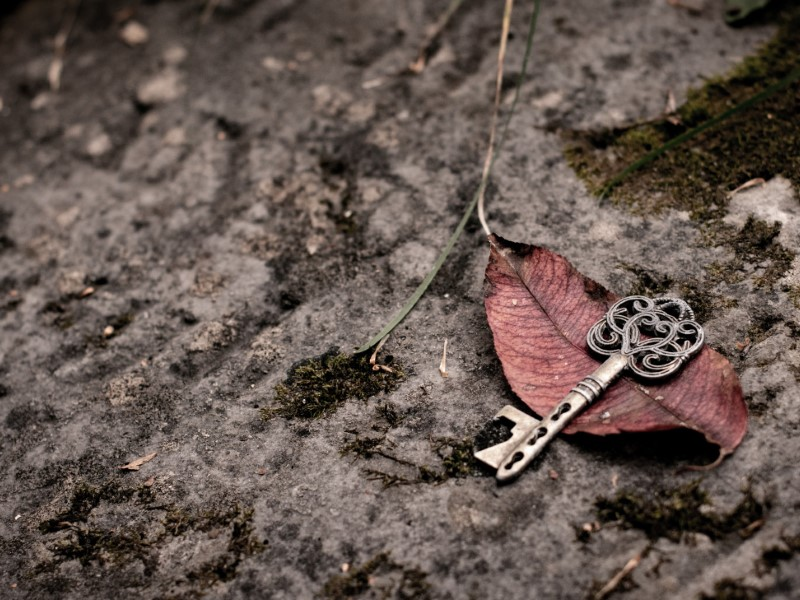key: (468, 289, 705, 480)
